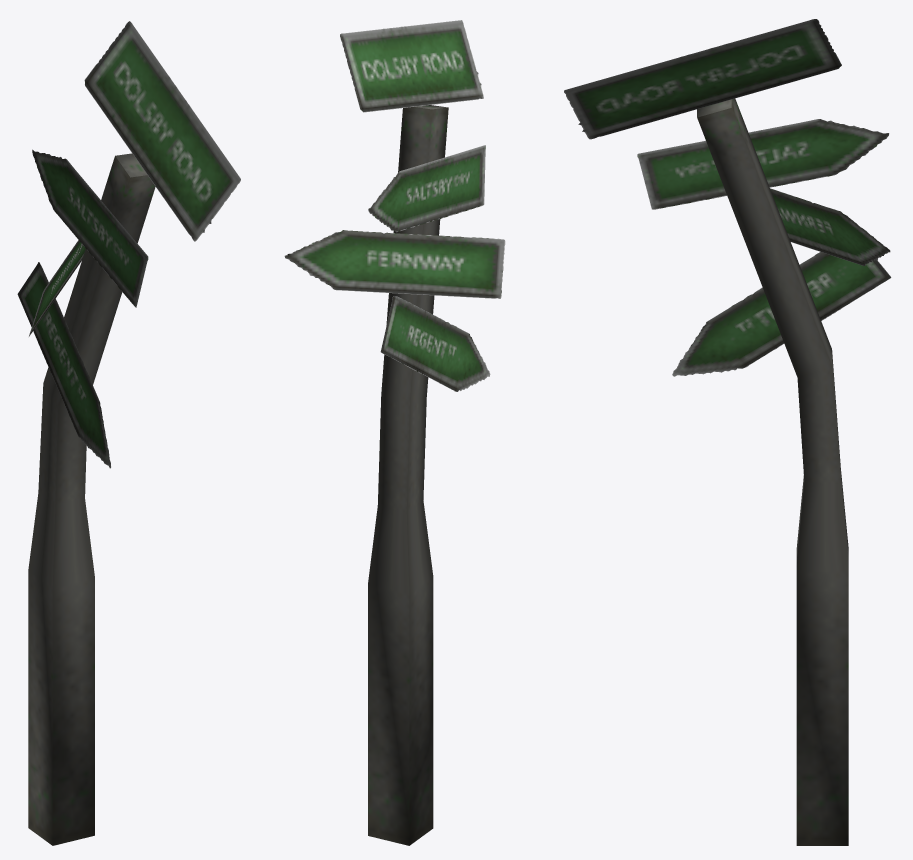
The model's file is signpost1.fbx.
The picture shows the model from 3 angles, left to right: view 1: azimuth 30°, elevation 25°; view 2: azimuth 150°, elevation 25°; view 3: azimuth 270°, elevation 25°; orthographic projection. The views are drawn at different scales.
Parts seen in each view (by area): view 1: signpost1; view 2: signpost1; view 3: signpost1.
Boxes of the visible parts, x1,y1,x2,y2 form: signpost1: (17, 21, 240, 845); signpost1: (284, 20, 505, 845); signpost1: (564, 19, 891, 845).
Bounding box in the file's own units: 98.34 × 159 × 436.
Materials: 1 (1 with a texture image).
